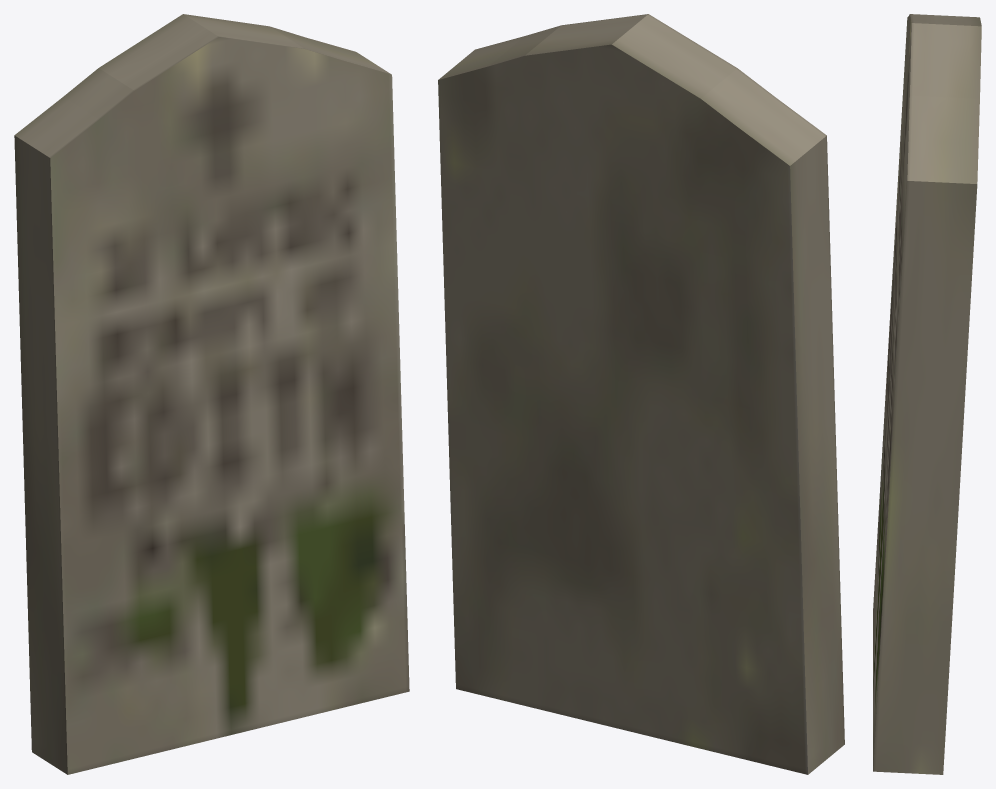
Rendered from headstone_shoulder.obj.
3 renders of one model, left to right at view 1: azimuth 30°, elevation 25°; view 2: azimuth 150°, elevation 25°; view 3: azimuth 270°, elevation 25°, orthographic. The views are drawn at different scales.
Visible parts, largest first — view 1: headstone_shoulder; view 2: headstone_shoulder; view 3: headstone_shoulder.
Boxes of the visible parts, box(x1,y1,x2,y2) form: headstone_shoulder: box(14, 14, 409, 774); headstone_shoulder: box(438, 14, 844, 774); headstone_shoulder: box(873, 14, 981, 774).
Size of the model in its own units: 0.55 by 1.05 by 0.1548.
Materials: 1 (1 with a texture image).
